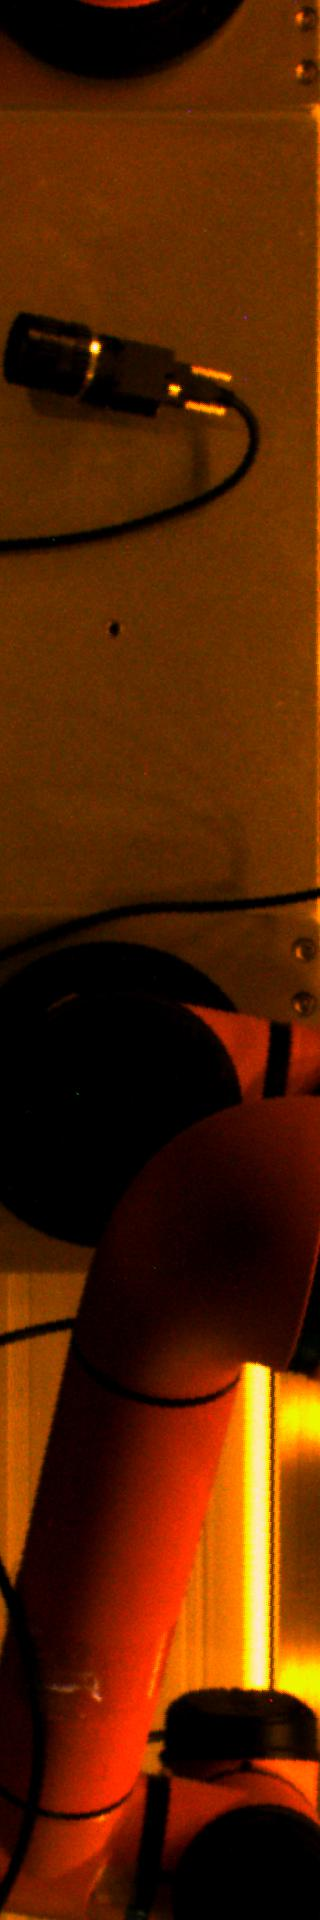keyPoint_2: (98, 615, 128, 645)
